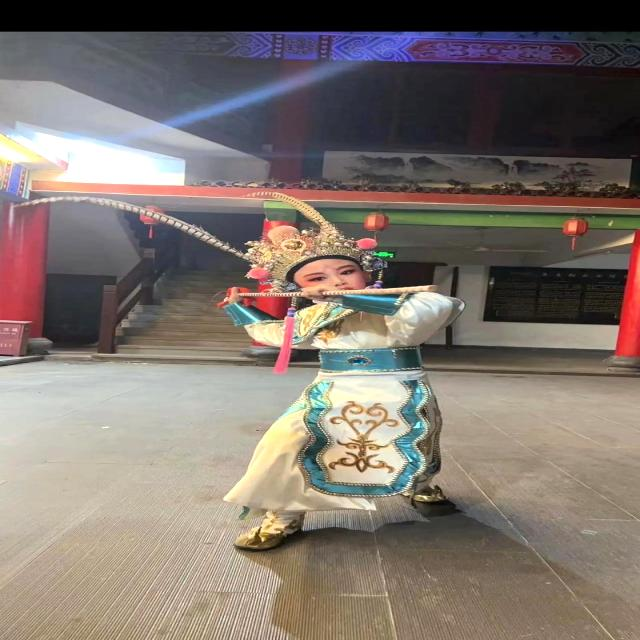Phasianus Colchicus: (232, 186, 336, 227)
Reeves-s Pheasant: (0, 192, 248, 257)
